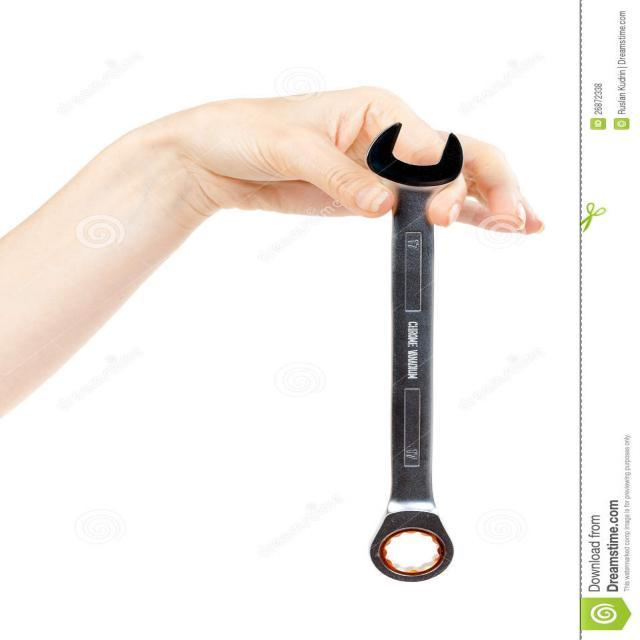wrench: (363, 119, 467, 586)
